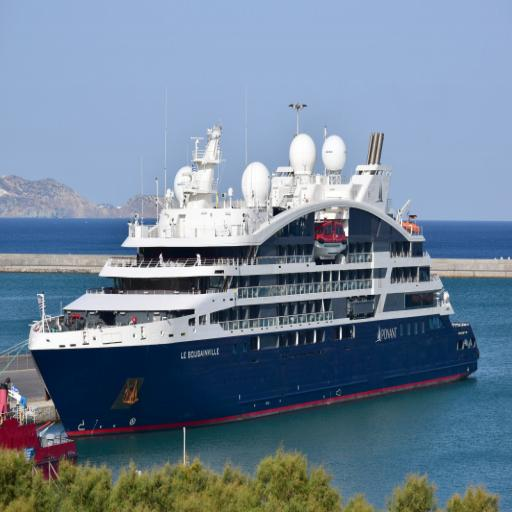cruises: (23, 122, 484, 445)
